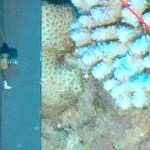alive: (44, 5, 147, 148)
